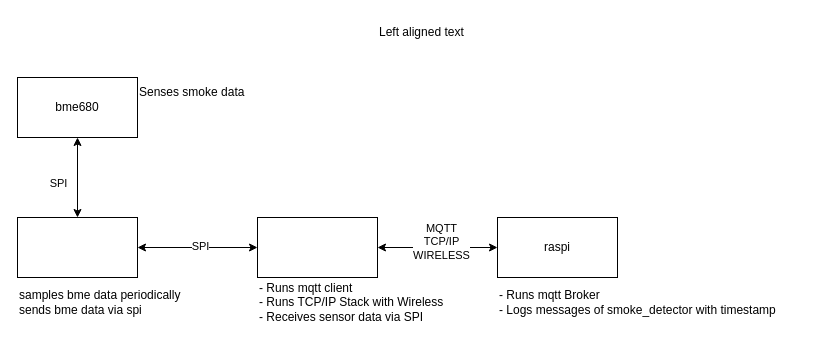
The diagram is 825 pixels wide and 355 high, and some of its shapes have lost their labels. Here are the shapes that lost their labels. From the top down, the centre of each, then its label:
At point (77, 247): "stm32".
At point (317, 247): "esp".
